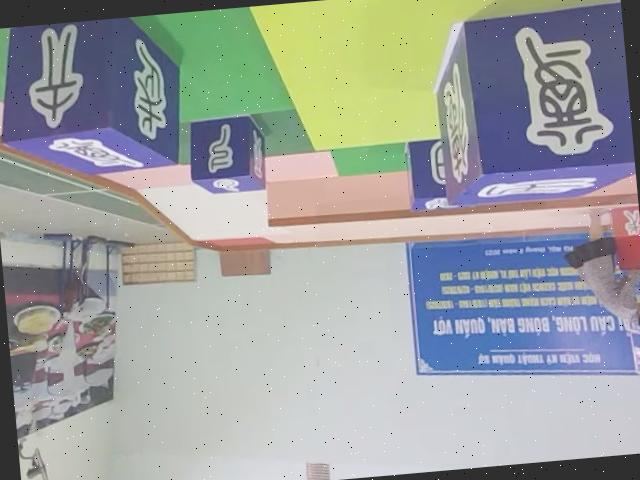R2 Fake Blue: (428, 2, 638, 215), (0, 12, 185, 185), (185, 109, 270, 194)
